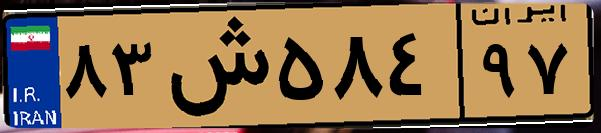3: (110, 28, 158, 98)
4: (385, 28, 445, 110)
5: (270, 28, 330, 110)
7: (525, 38, 570, 115)
8: (330, 28, 385, 110), (57, 26, 110, 100)
9: (475, 38, 525, 113)
ش: (158, 12, 270, 120)
